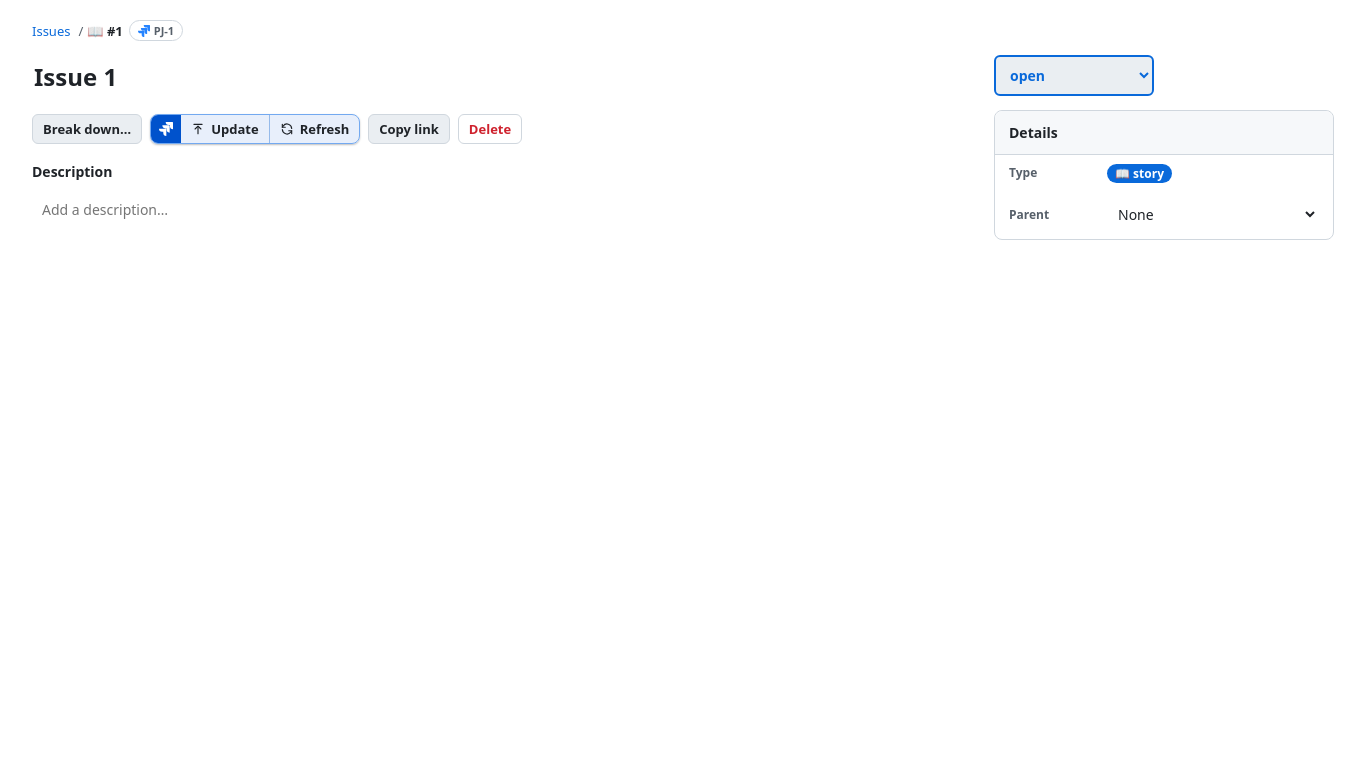
Jira write actions › shows an error toast, and no overwrite prompt, for other failures
Click the button with aria-label "Update in Jira": [225, 129] box [181, 115, 269, 143]
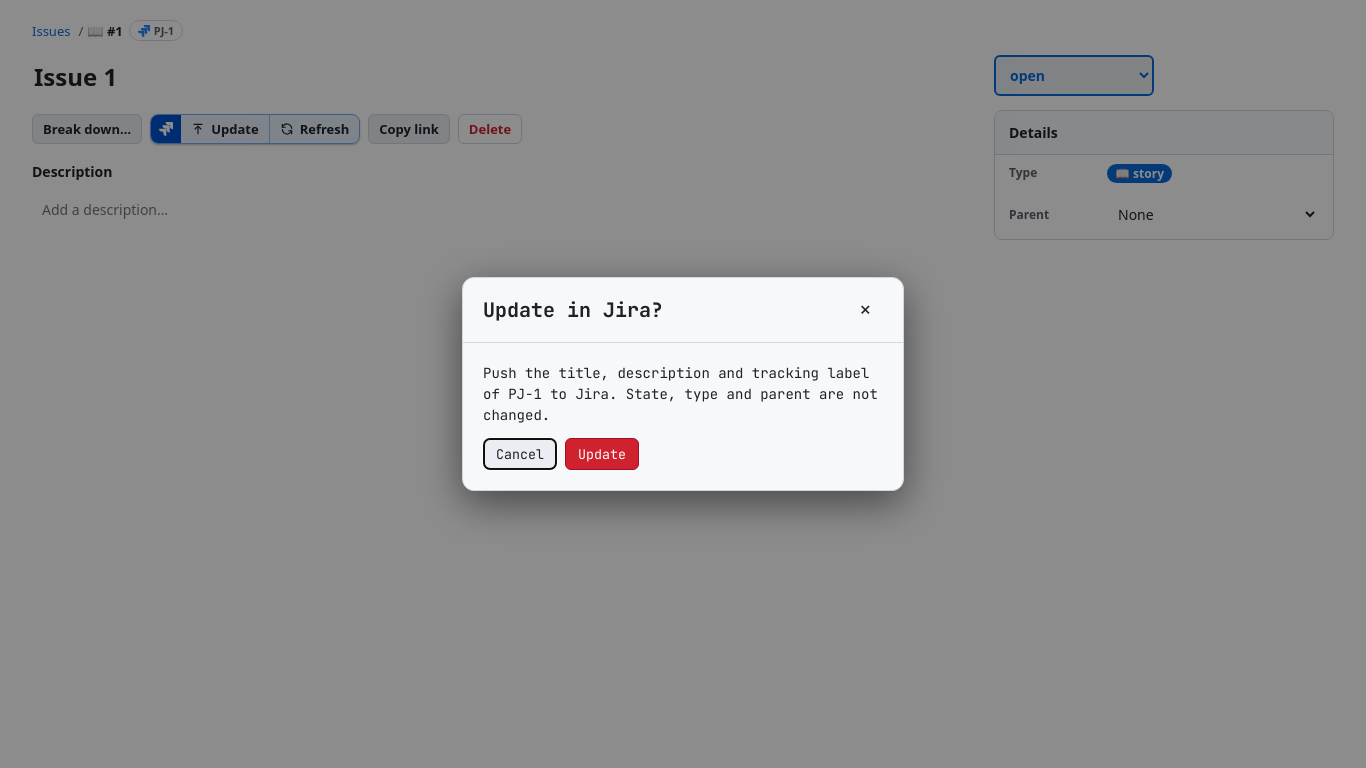
Click the button "Update": [602, 454] box [565, 438, 639, 470]
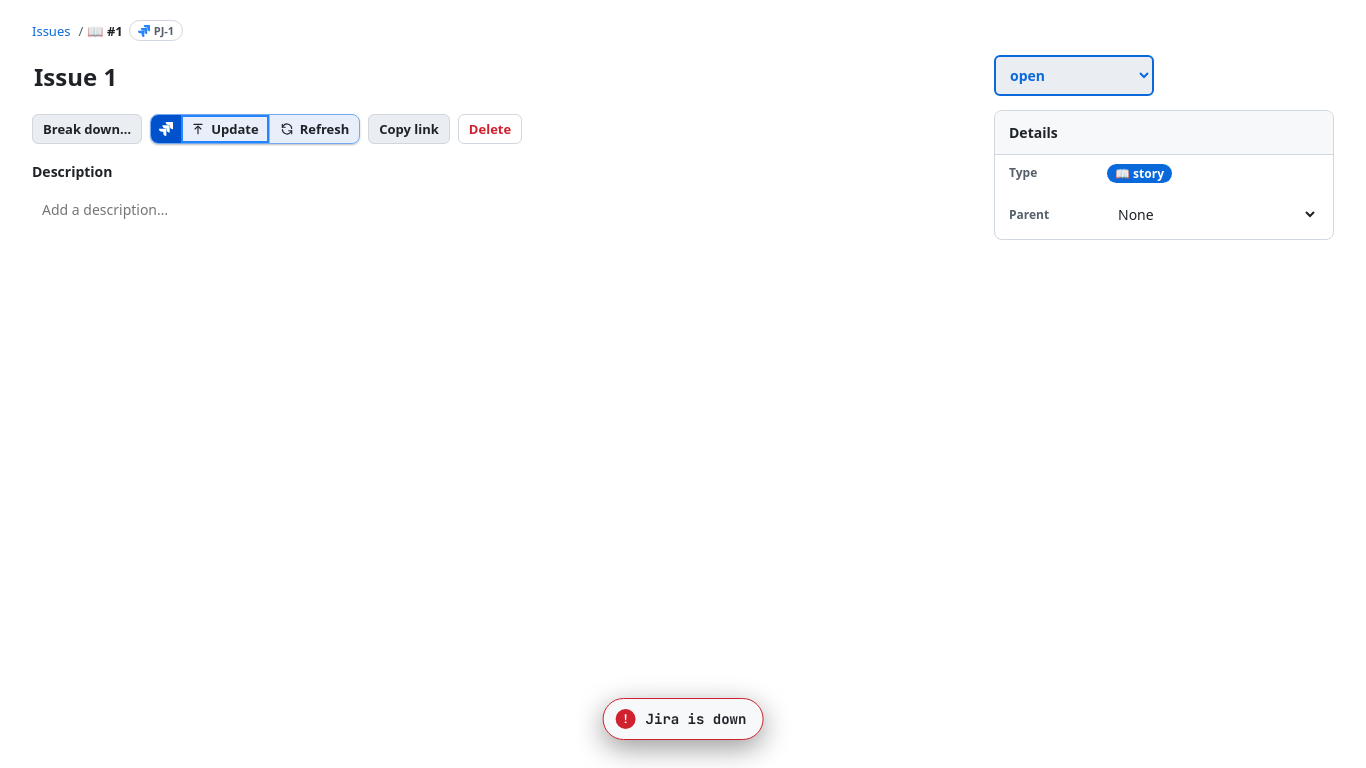
Expected: the message shows "Jira is down", [646, 710, 746, 728]
Expected: the dialog is gone
